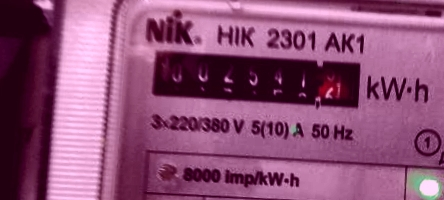0: (166, 57, 186, 84), (194, 56, 210, 84)
1: (294, 62, 309, 89)
2: (218, 58, 236, 84)
4: (270, 61, 285, 85)
5: (243, 59, 263, 88)
6: (320, 81, 336, 100)
screen: (138, 33, 376, 121)
